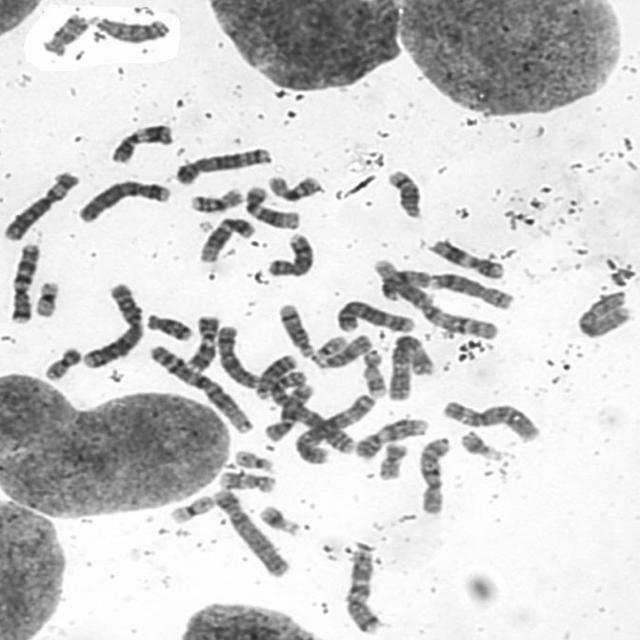A1: (374, 254, 497, 340), (146, 340, 255, 434)
A2: (262, 352, 358, 455), (77, 278, 147, 369)
A3: (292, 391, 376, 465), (384, 331, 436, 403)
B4: (208, 484, 292, 579), (75, 176, 174, 225)
B5: (172, 143, 276, 186), (333, 296, 417, 335)
C10: (260, 379, 315, 443), (414, 435, 452, 517)
C11: (426, 235, 506, 280), (107, 120, 176, 165)
C12: (194, 213, 257, 263), (240, 182, 301, 230)
C6: (0, 167, 82, 241), (439, 397, 542, 443)
C7: (342, 546, 386, 635), (6, 239, 43, 326)
C8: (423, 268, 515, 311), (263, 230, 317, 278)
C9: (350, 414, 430, 462), (183, 311, 221, 375)
D13: (90, 13, 172, 44), (254, 352, 299, 400)
D14: (274, 300, 316, 359), (383, 165, 425, 220)
D15: (309, 330, 375, 370), (379, 267, 433, 302)
E16: (264, 171, 326, 204), (186, 183, 248, 214)
E17: (214, 466, 278, 494), (358, 347, 388, 399)
E18: (39, 12, 91, 56), (143, 310, 194, 342)
F19: (166, 491, 217, 524), (31, 277, 62, 318)
F20: (39, 343, 85, 383), (374, 438, 410, 481)
G21: (256, 501, 303, 536), (457, 428, 504, 463)
G22: (232, 446, 277, 472), (311, 333, 348, 361)
X: (214, 326, 283, 391), (572, 286, 634, 342)
